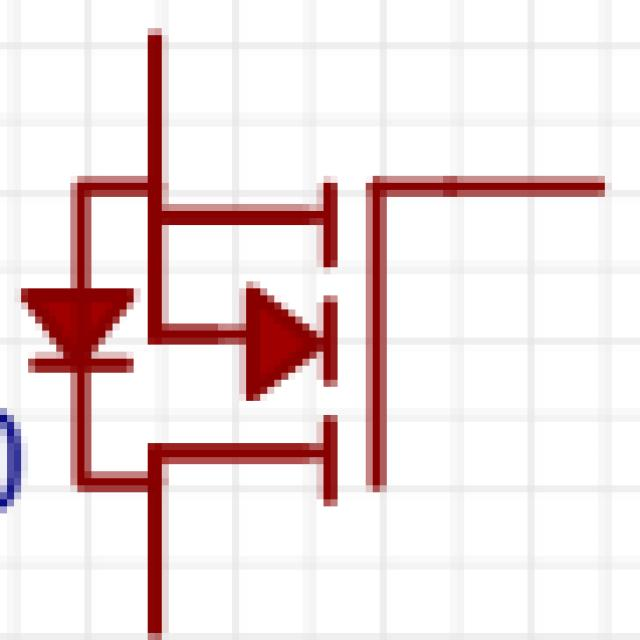nmos: (16, 34, 612, 603)
